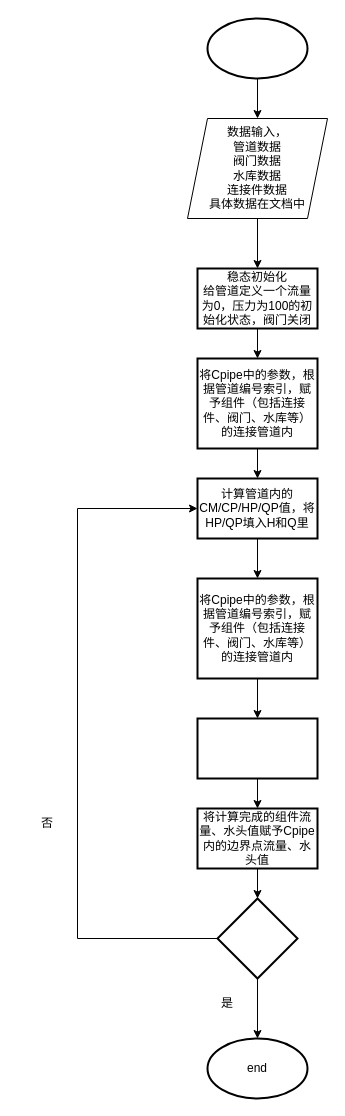
Image size: 345x1116. Some labels were removed from this diagram. Here are the shapes that lost their labels. From the top down, the centre of each, then its label:
point (257, 48): star
point (257, 748): 计算各个组件的流量、水头值
point (257, 938): t+=dt 判断是否超出最大时间
